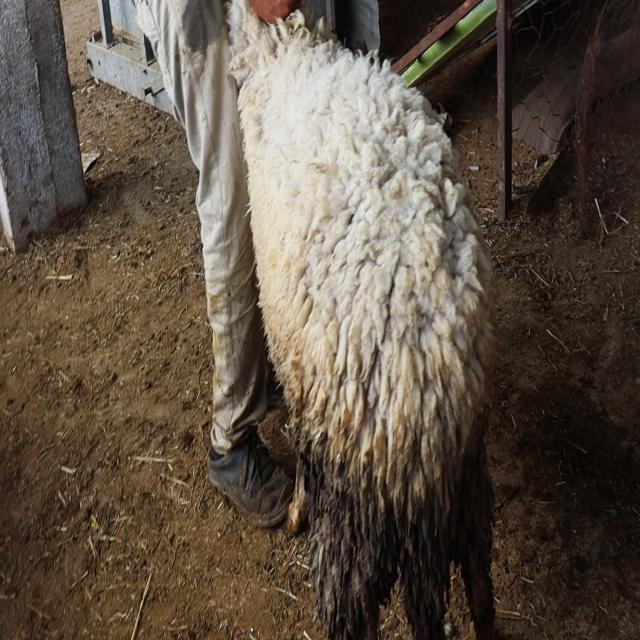Score_4: (226, 0, 494, 639)
